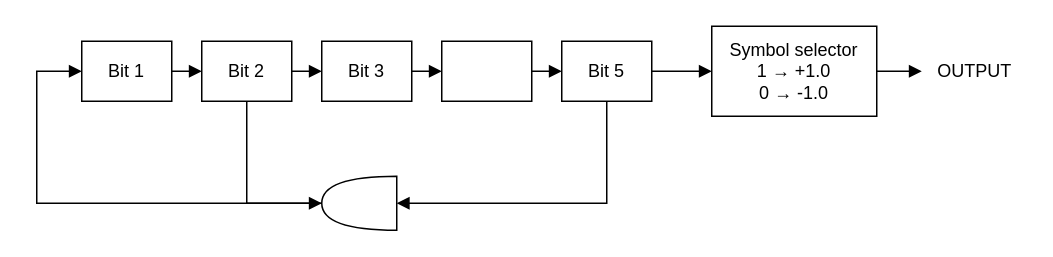
The diagram is 1053 pixels wide and 257 high, and some of its shapes have lost their labels. The centre of each missing label's shape, as x and y in pixels:
"Bit 4" goes at pixel 486 70.
"XOR" goes at pixel 358 202.
